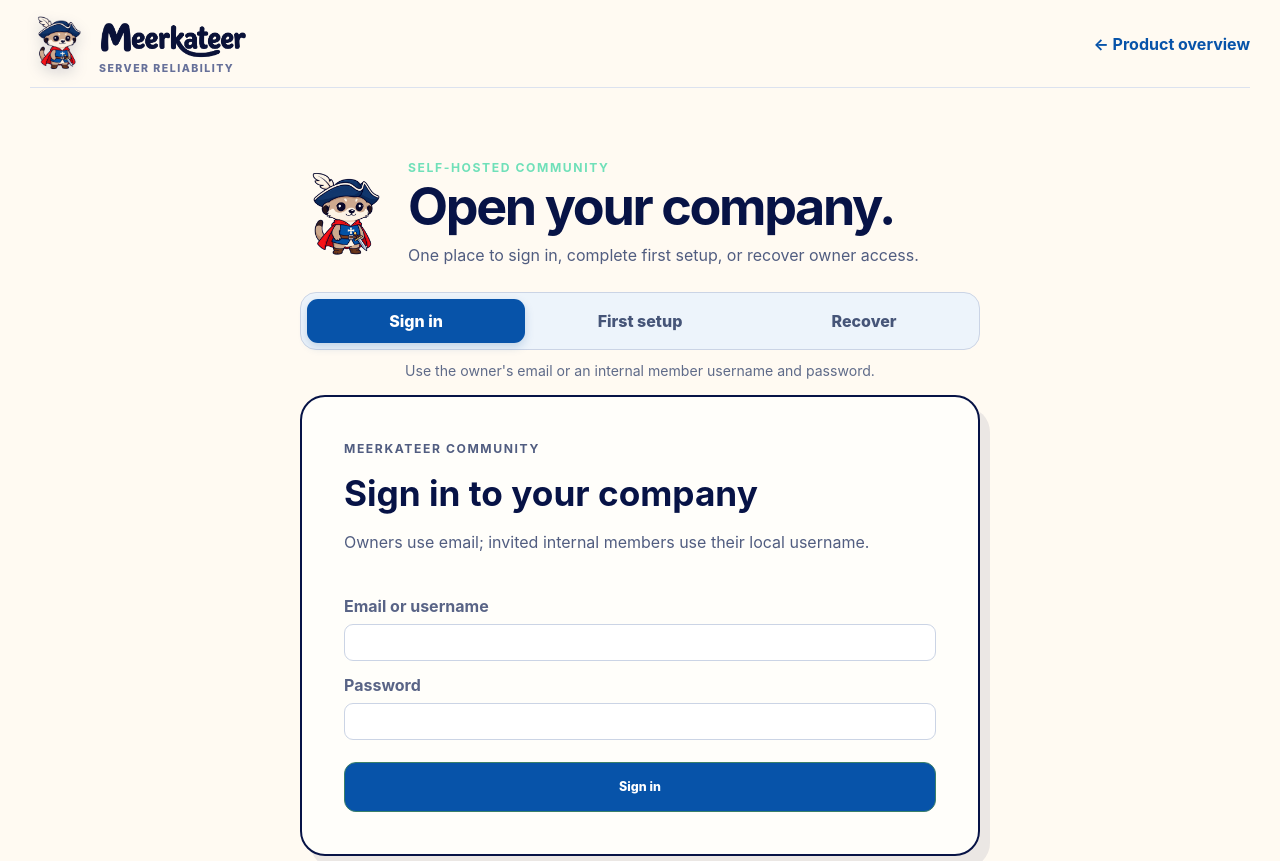
Test: App › switches sign in, first setup, and recovery without duplicate pages
The image size is (1280, 861).
expect the heading "Sign in to your company" is shown: met, box [344, 472, 758, 514]
Click the tab "First setup" at (640, 321), box [531, 299, 749, 343]
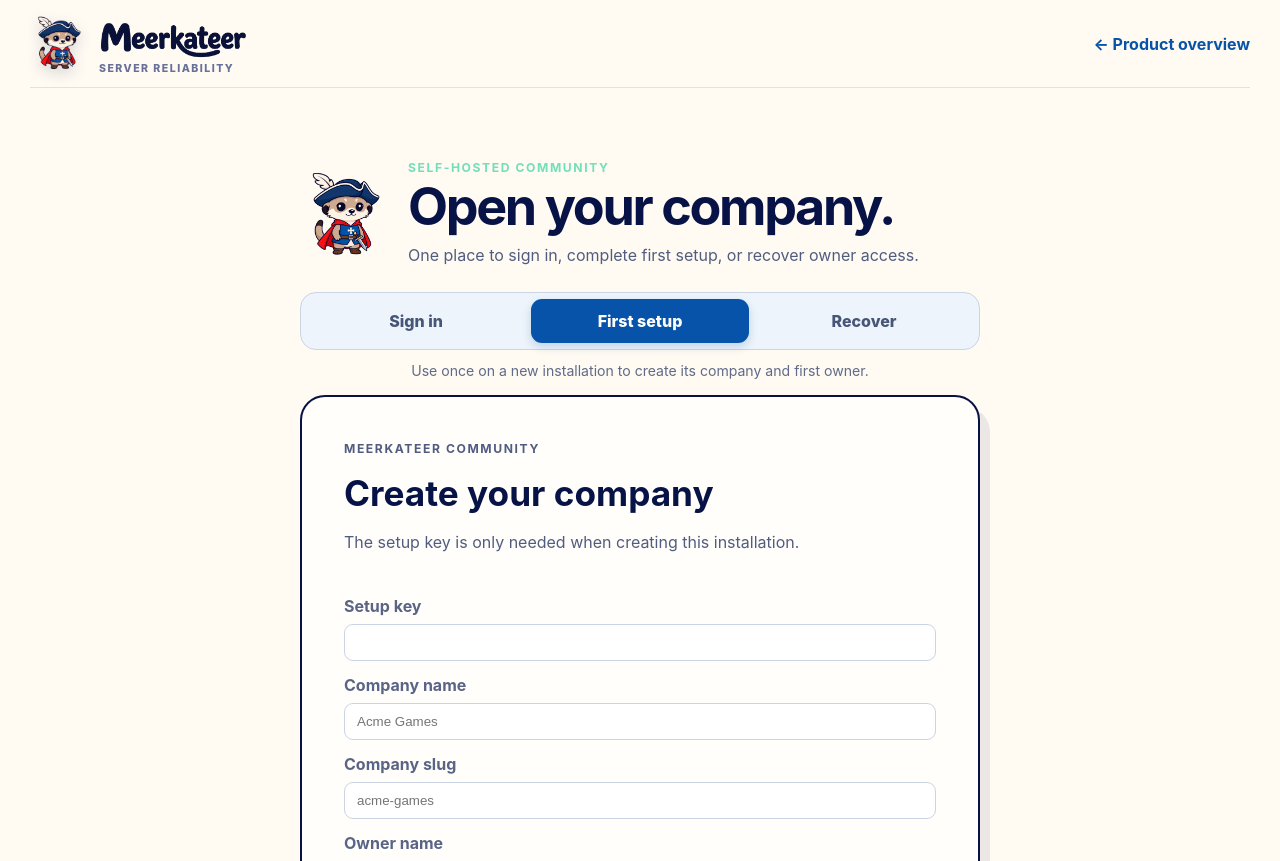
expect the heading "Create your company" is shown: met, box [344, 472, 714, 514]
Click the tab "Recover" at (864, 321), box [755, 299, 973, 343]
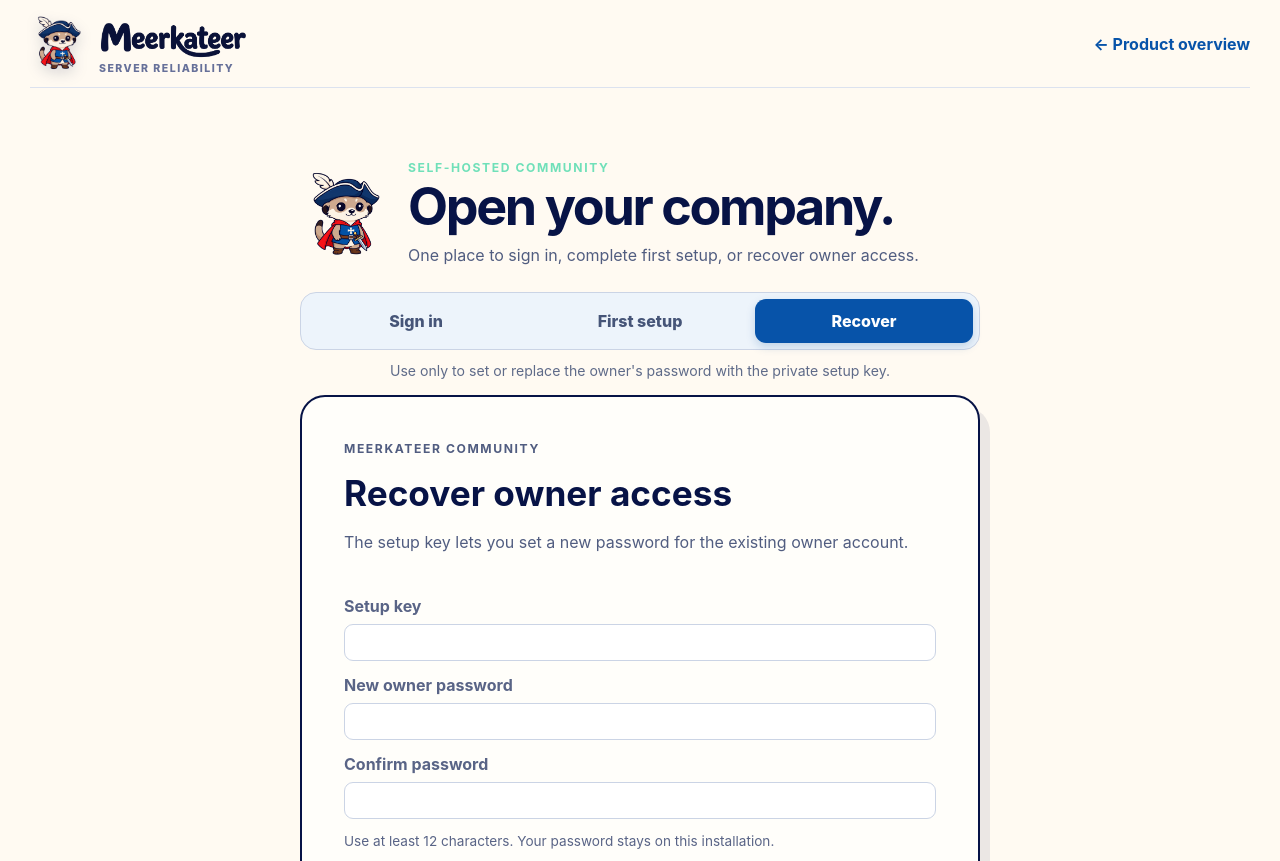
expect the heading "Recover owner access" is shown: met, box [344, 472, 732, 514]
